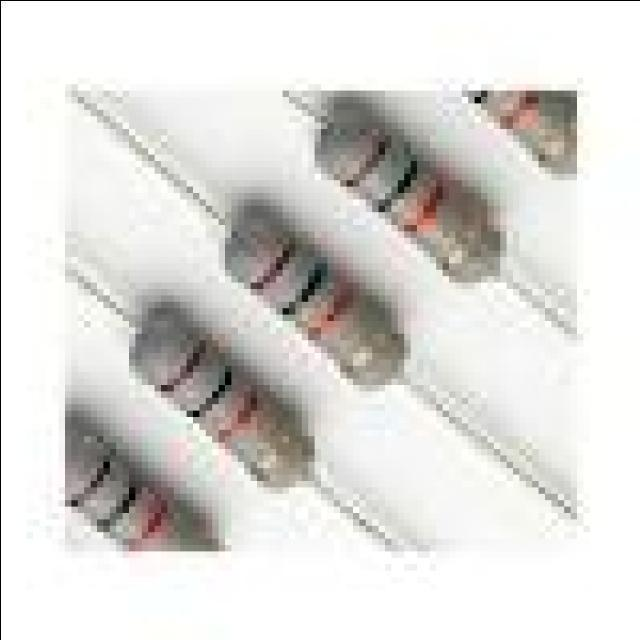Resistor Carbon-Film: (311, 94, 503, 292), (128, 299, 319, 496), (215, 202, 407, 389), (65, 425, 227, 550), (460, 91, 581, 182)
